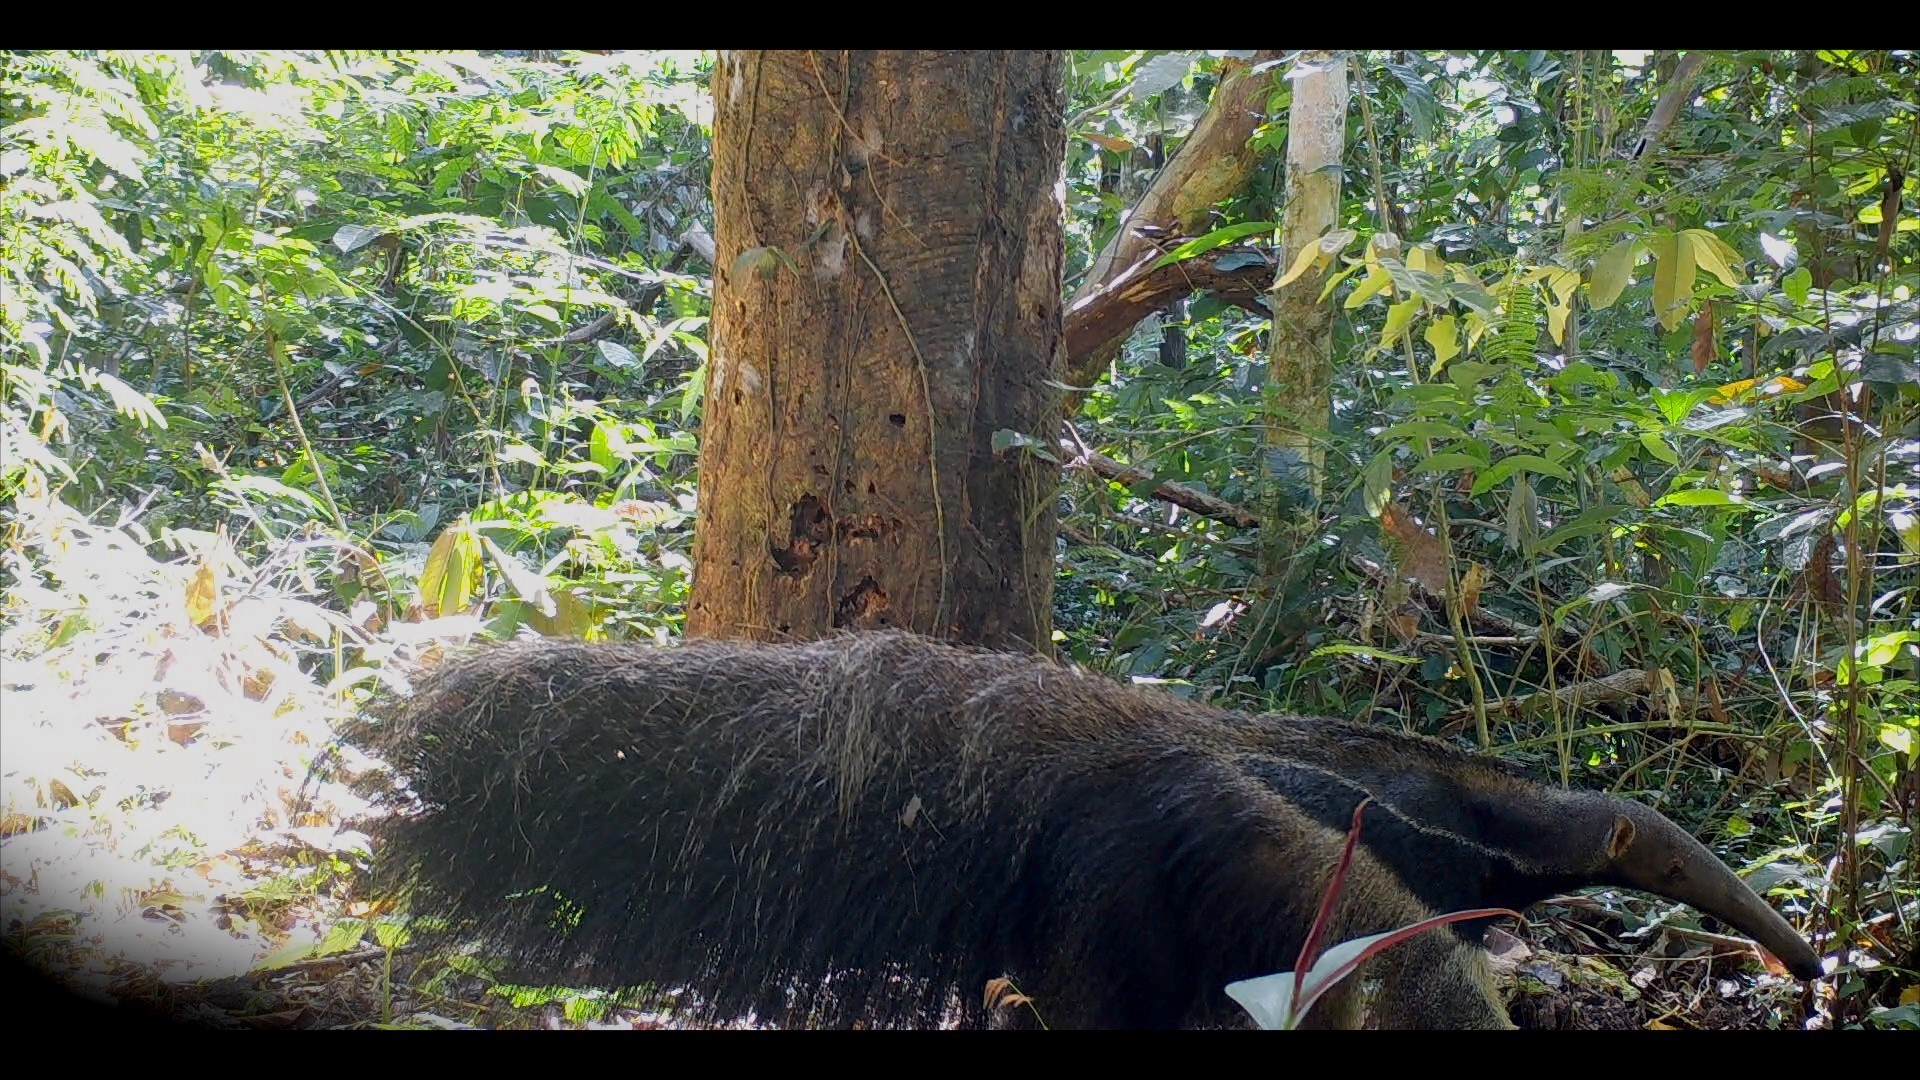TamanduaBandeira: (359, 620, 1832, 1039)
